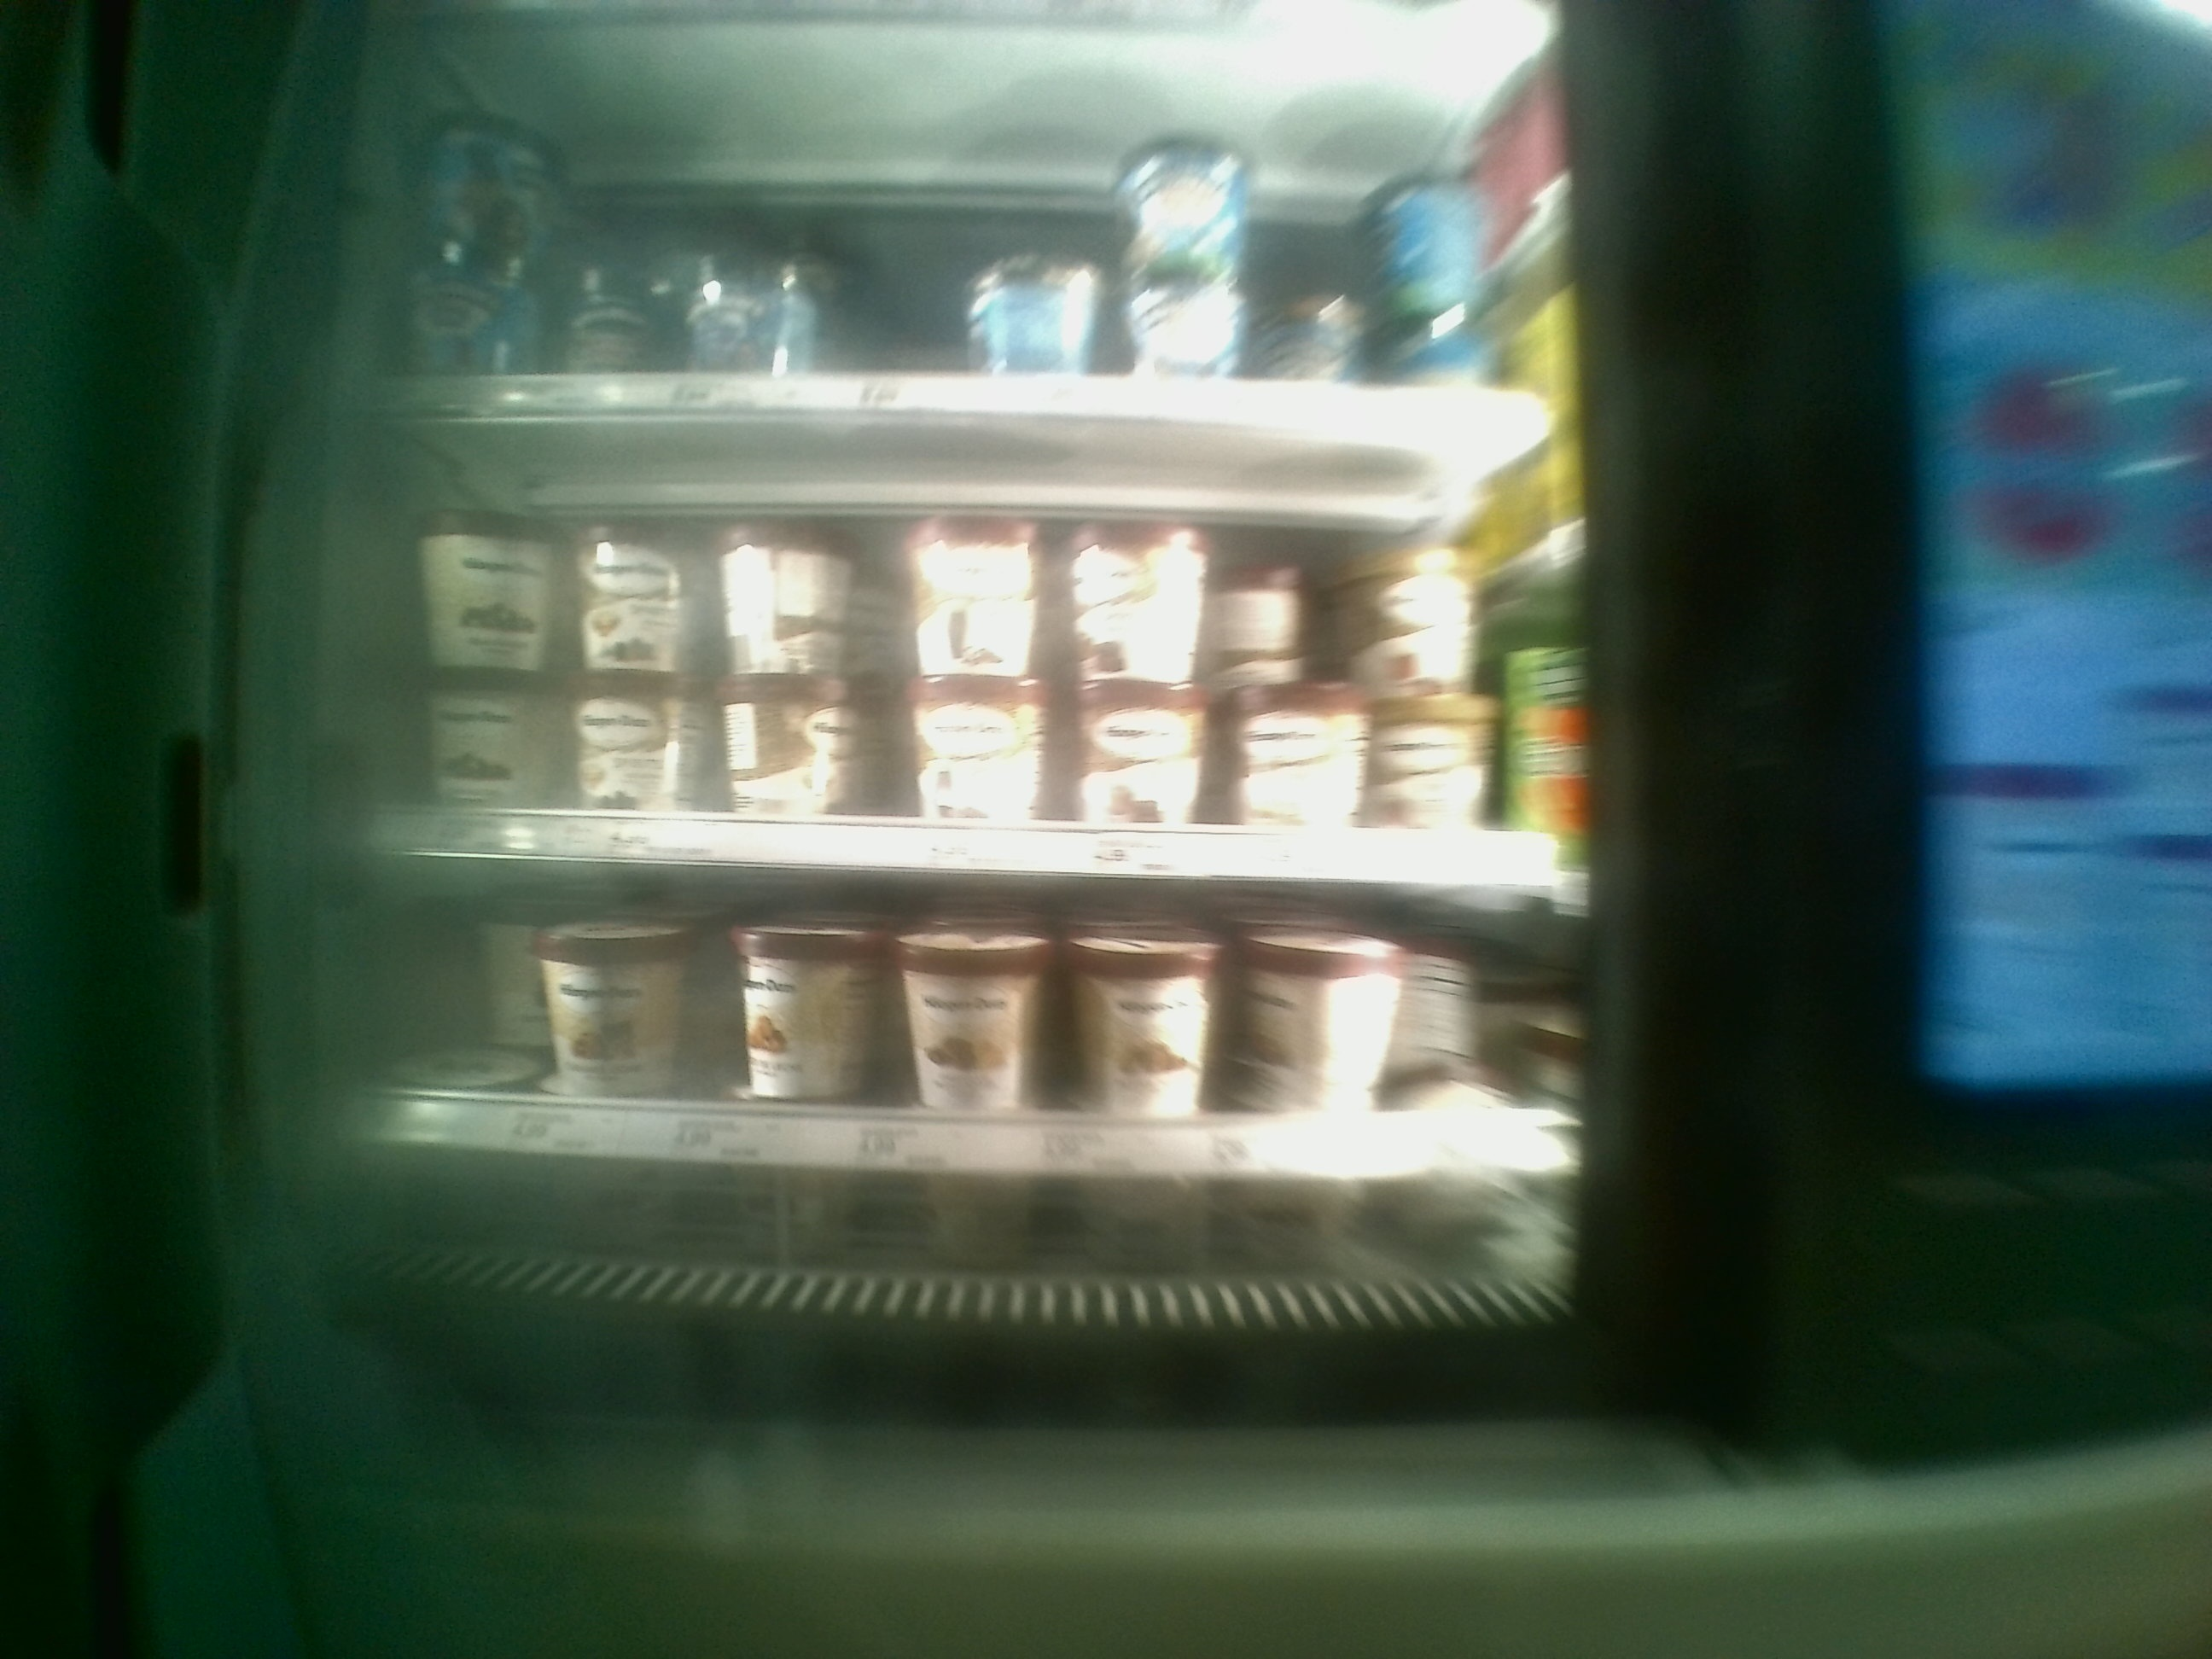shelf: (364, 422, 1576, 863), (361, 864, 1601, 1213)
